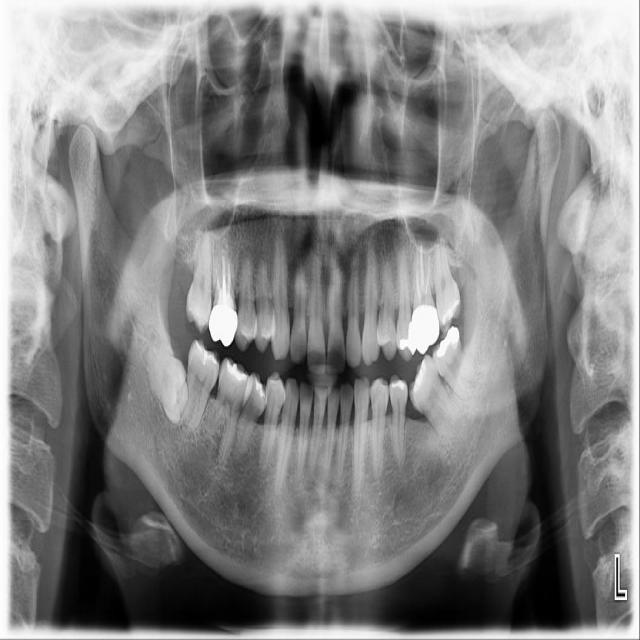52: (422, 321, 473, 379), (403, 351, 443, 415), (185, 337, 222, 393), (217, 356, 254, 412), (201, 301, 244, 348), (411, 305, 440, 355), (394, 310, 419, 363), (436, 280, 461, 332), (244, 372, 268, 419), (390, 373, 407, 410)
73: (408, 235, 437, 311), (209, 243, 237, 313), (617, 604, 630, 612)
BioHorizons Implant: (430, 228, 463, 333)
Biomet 3i Implant: (422, 323, 485, 407)
Blue Sky Bio Implant: (396, 351, 466, 450)
Caries: (185, 226, 215, 335)
Implant: (175, 336, 224, 435)
Keystone Dental Implant: (141, 333, 195, 428)
